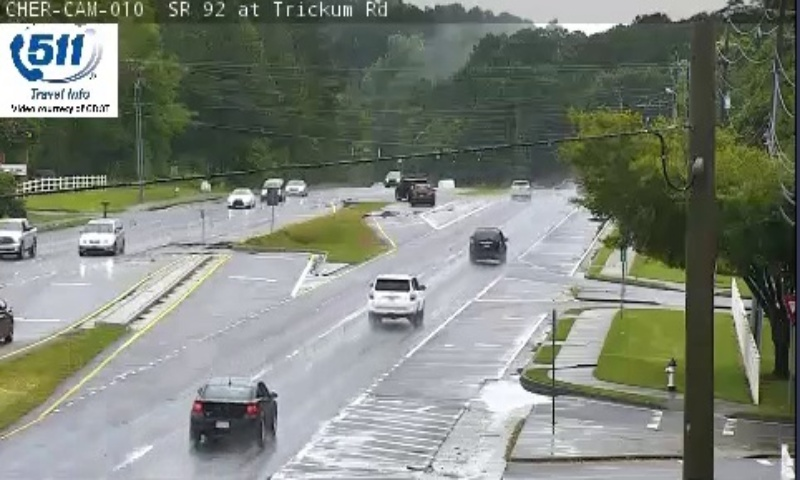car: (189, 378, 278, 442), (368, 276, 424, 317), (469, 227, 506, 259)
